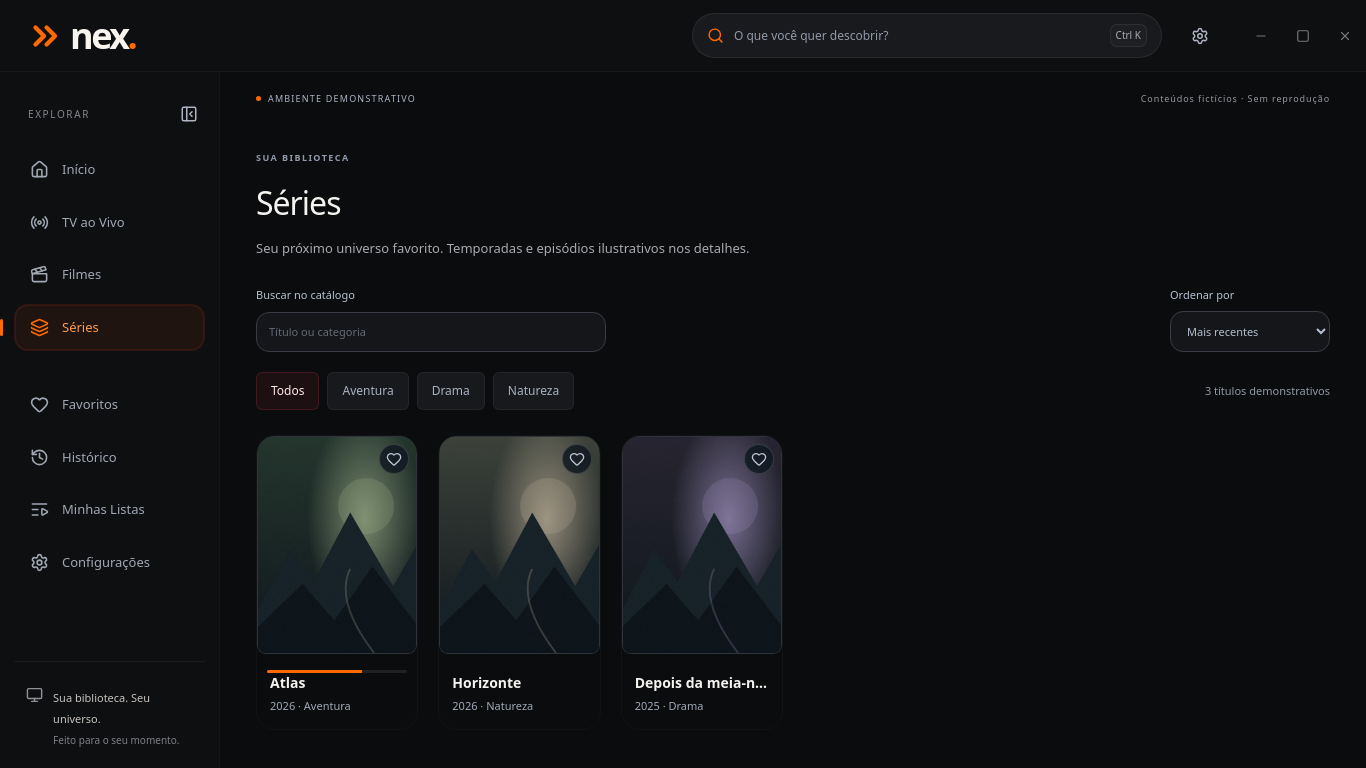
Test case: Fase 2 › seleciona temporadas e reinicia a seleção para outra série
Click the button with aria-label "Ver detalhes de Atlas" at (337, 582), box 257,436 -> 417,729
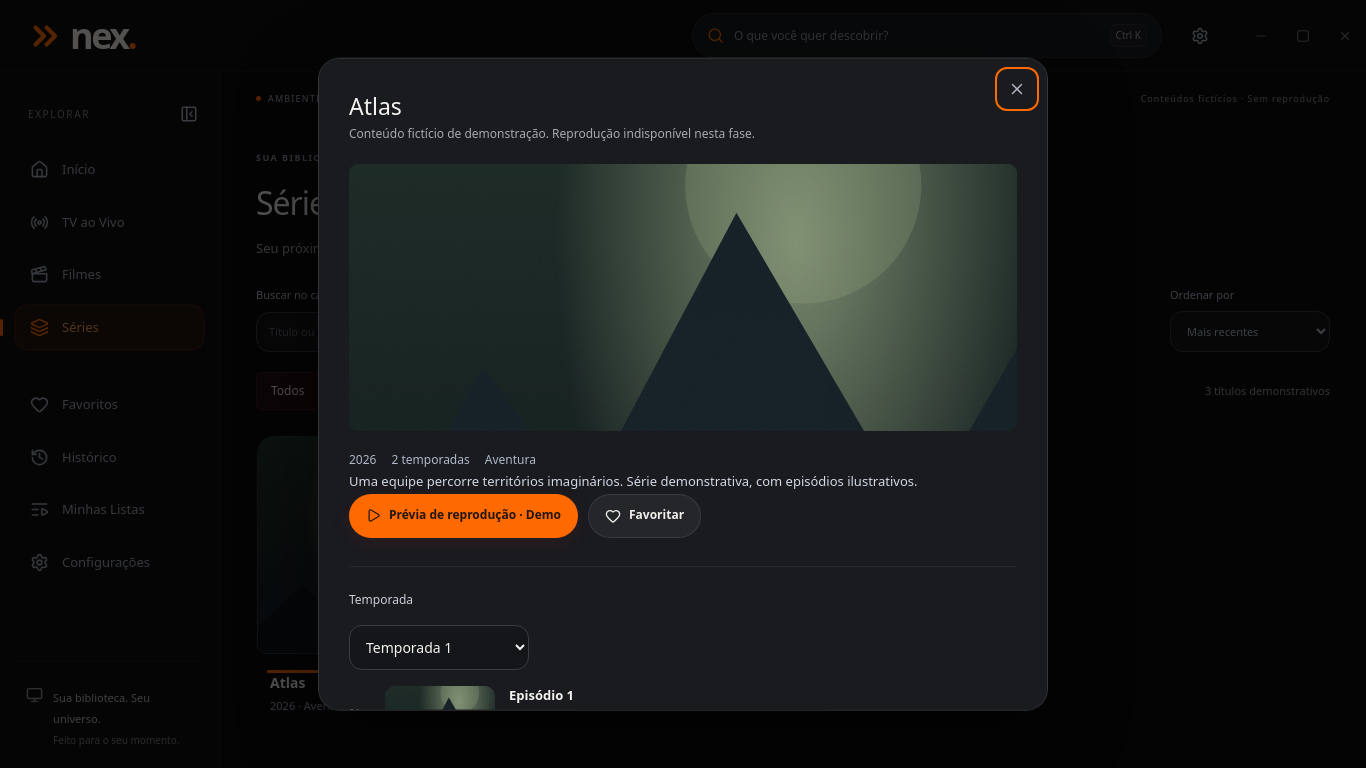
Select "Temporada 2" in the dropdown labelled "Temporada" at (439, 647), box 349,624 -> 529,669
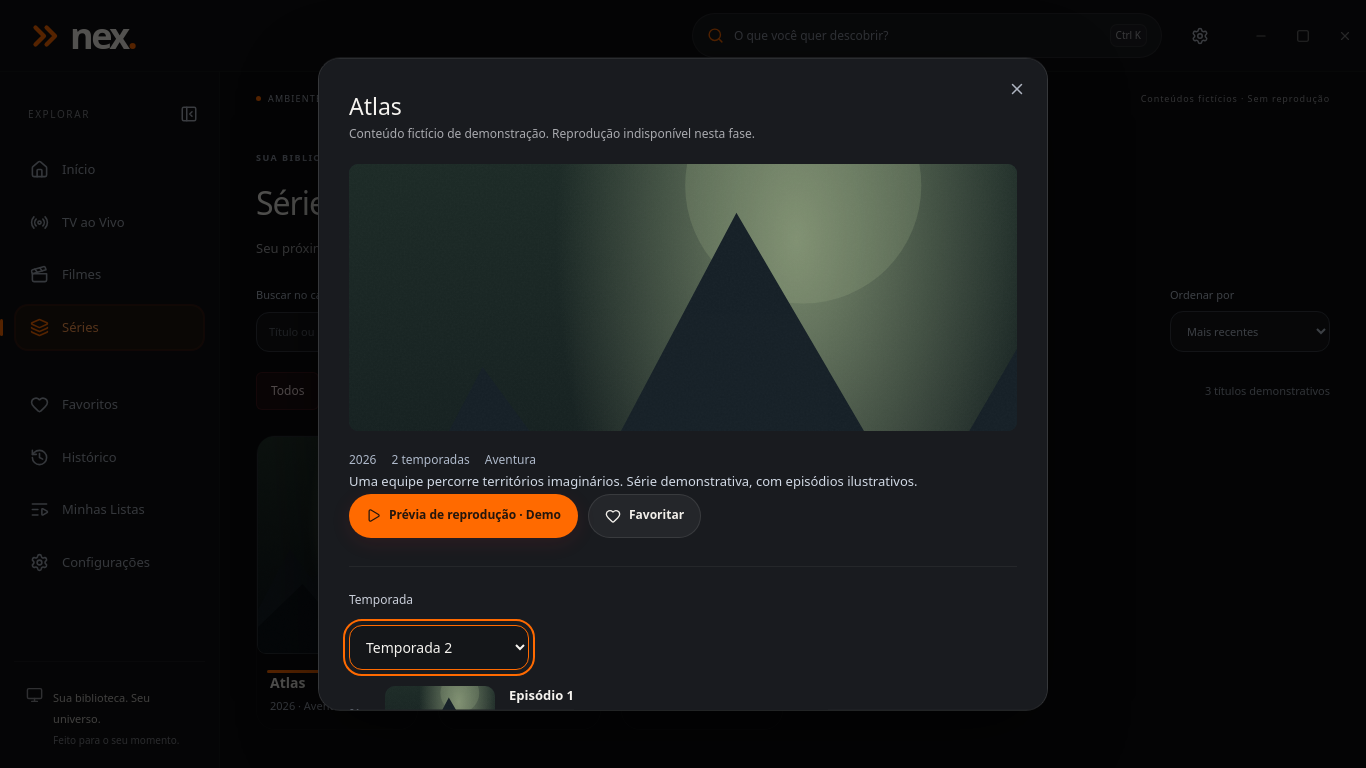
Click the button "Prévia de reprodução · Demo" at (464, 515), box 349,493 -> 578,537
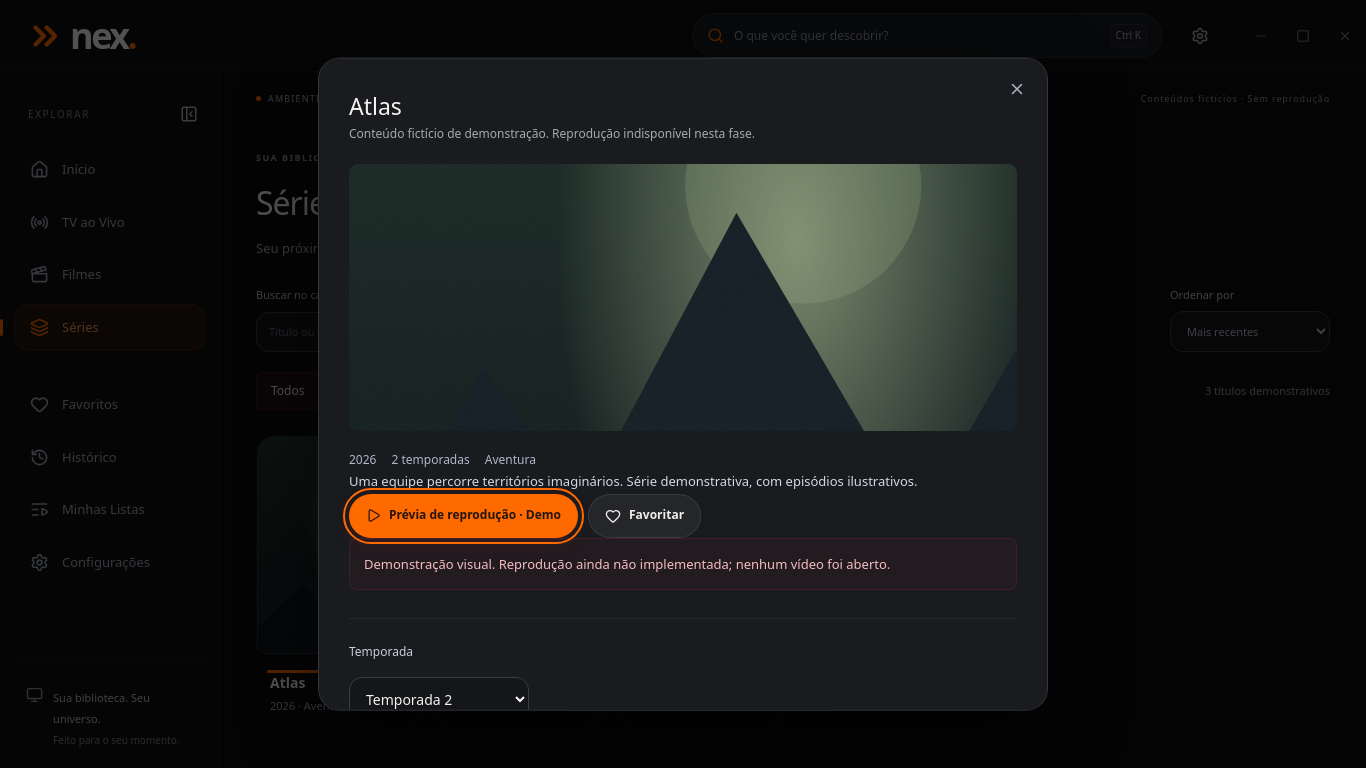
Expected: the text "nenhum vídeo foi aberto" is shown, 364,554 -> 890,572
Press Escape
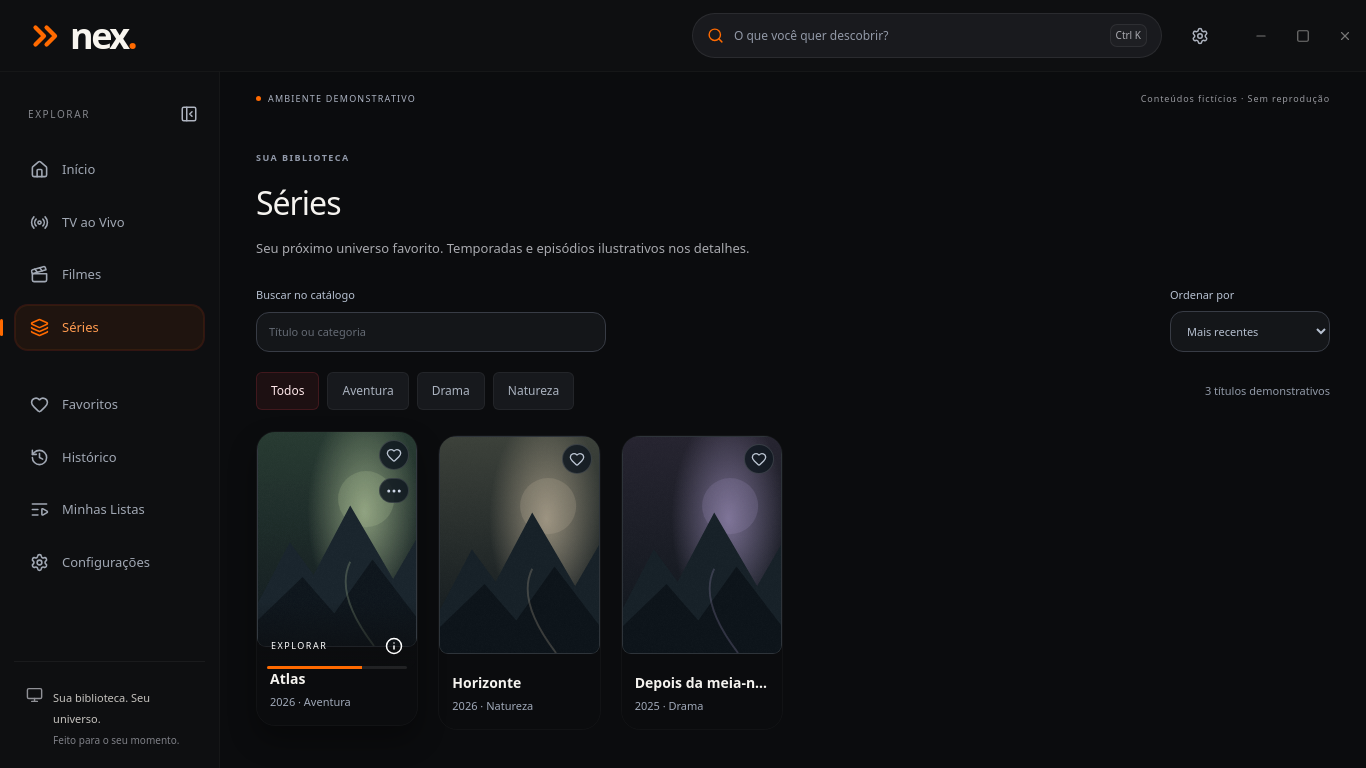
Click the button with aria-label "Ver detalhes de Depois da meia-noite" at (702, 582), box 622,436 -> 782,729
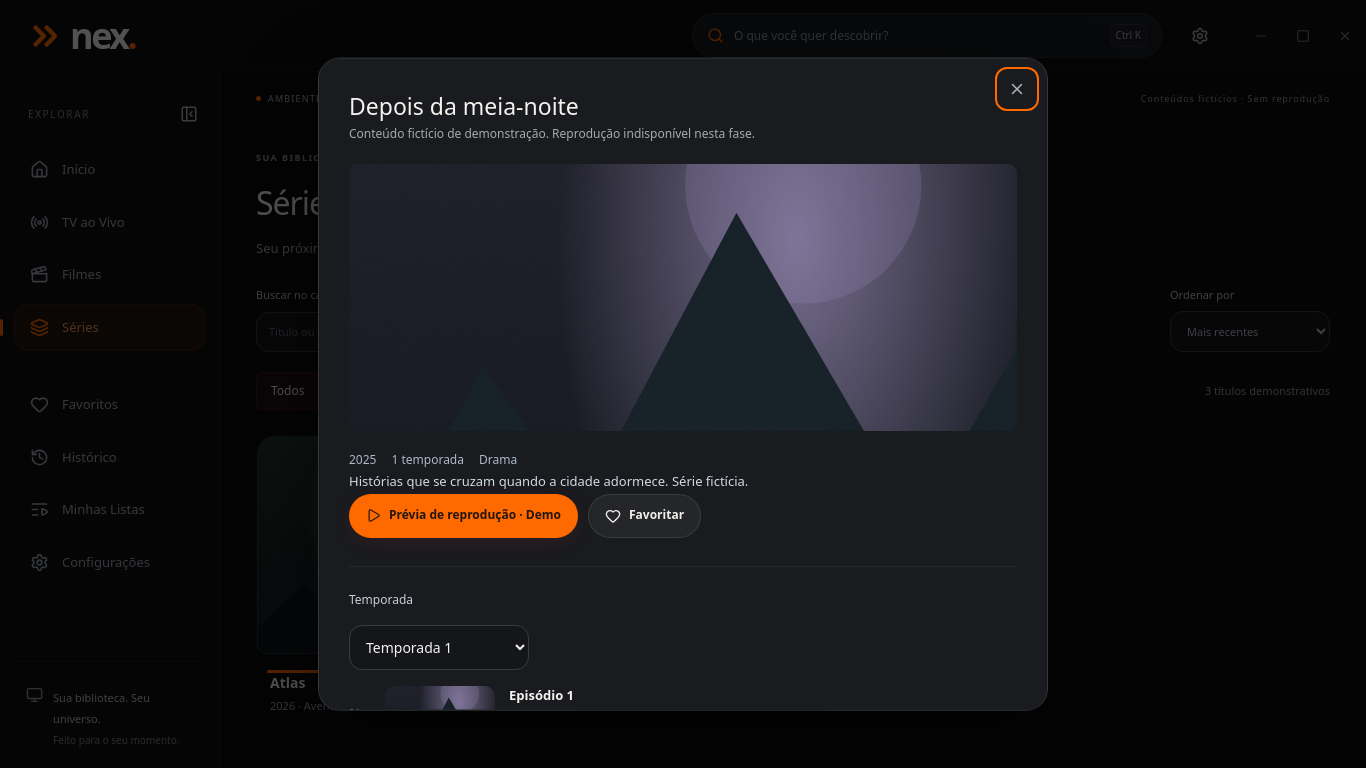
Expected: the dropdown labelled "Temporada" shows "Temporada 1", 349,624 -> 529,669
